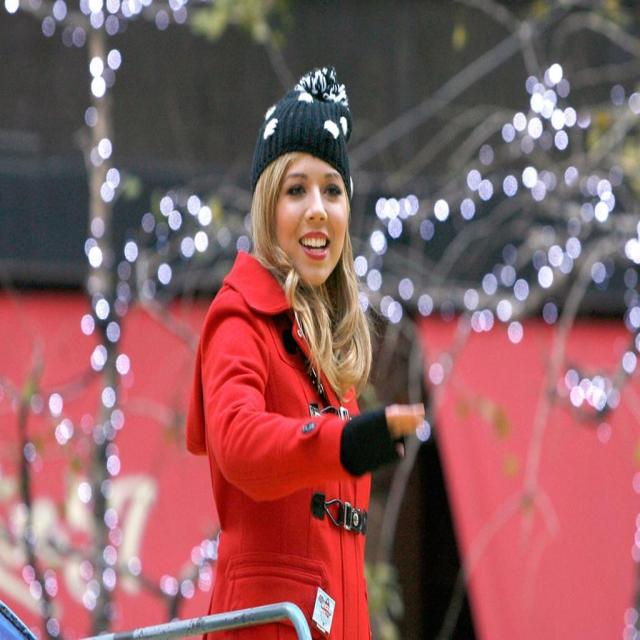Face: (272, 141, 358, 304)
